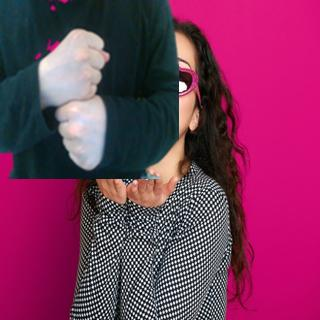CAREFUL: (40, 24, 116, 174)
